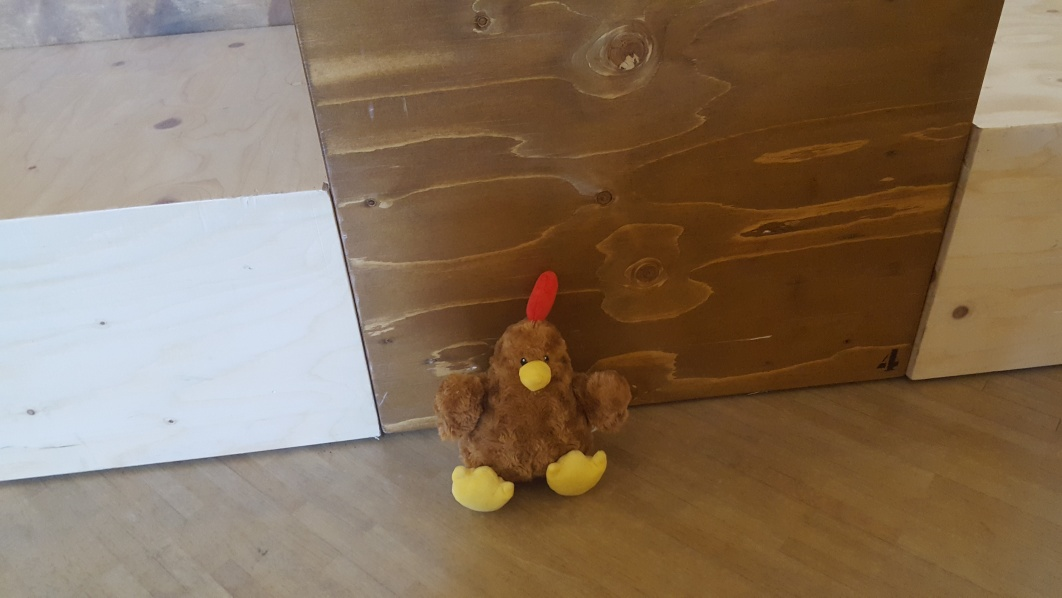chicken: (434, 268, 634, 515)
